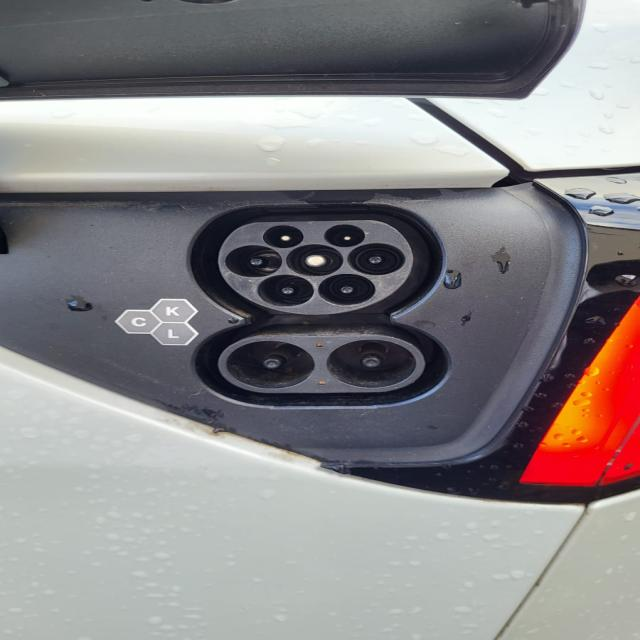inlet: (218, 220, 413, 314)
inlet-above-left: (263, 225, 304, 248)
inlet-above-right: (324, 224, 365, 247)
inlet-below-left: (258, 275, 314, 307)
inlet-below-right: (318, 274, 376, 307)
inlet-circle: (285, 244, 343, 276)
inlet-circle-left: (225, 245, 282, 277)
inlet-circle-right: (347, 243, 405, 275)
inlet-minus: (327, 340, 416, 389)
inlet-plus: (228, 340, 315, 388)
